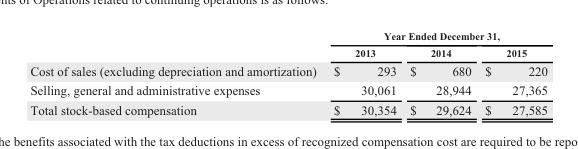table: (29, 28, 547, 117)
table column: (29, 28, 324, 117), (324, 28, 402, 117), (402, 28, 477, 117), (477, 28, 547, 117)
table column header: (29, 28, 547, 60)
table row: (29, 60, 547, 80), (29, 80, 547, 99), (29, 99, 547, 117), (29, 43, 547, 60), (29, 28, 547, 43)
table spanning cell: (324, 28, 547, 43)
